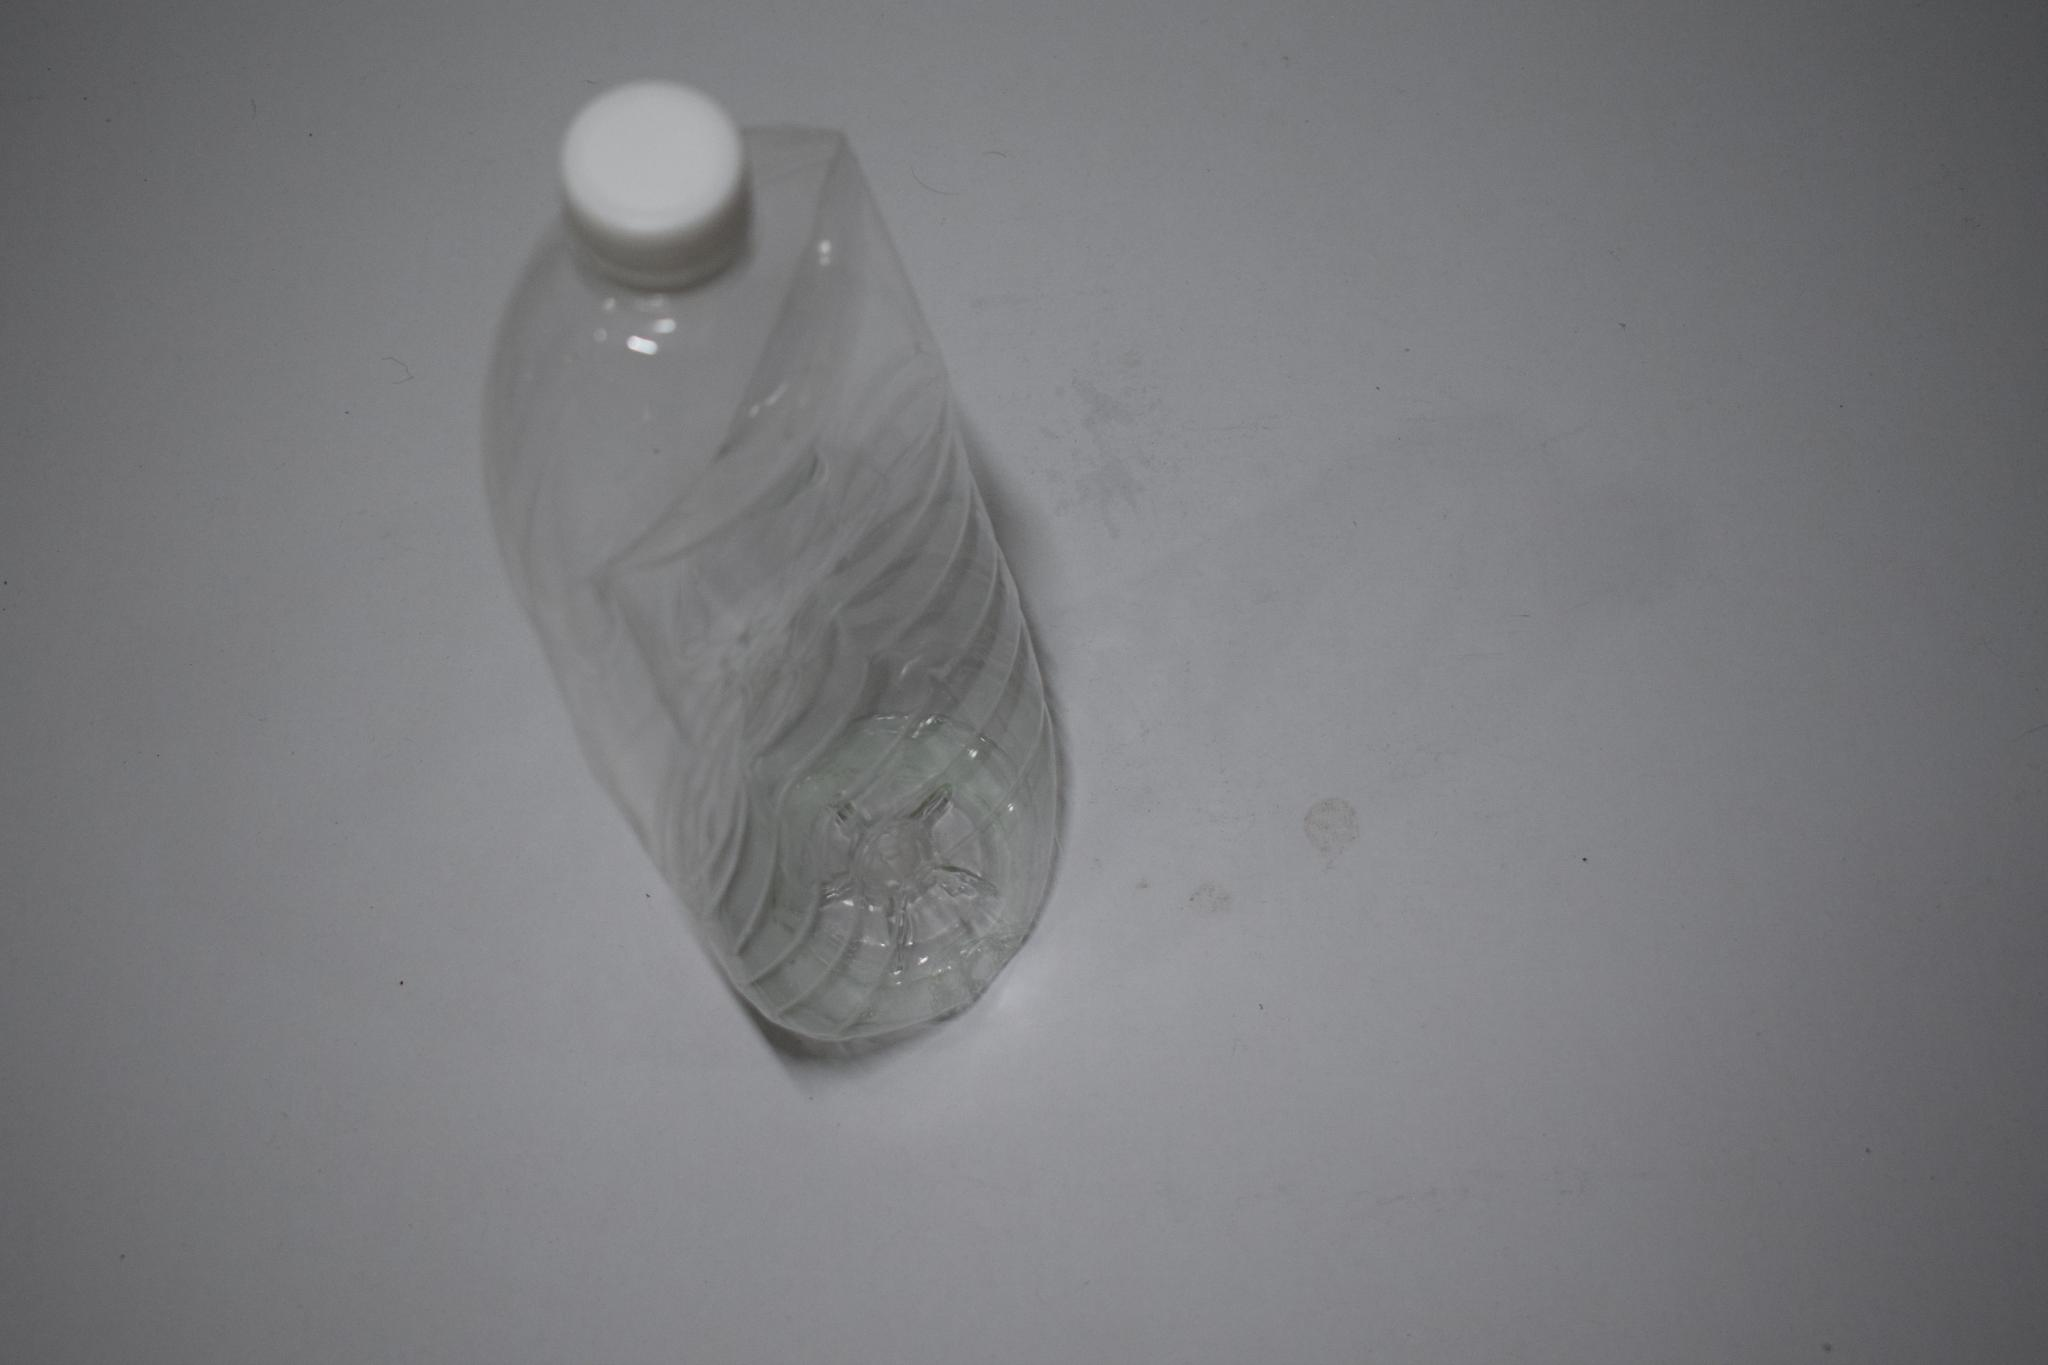bottle: (474, 72, 1070, 1057)
